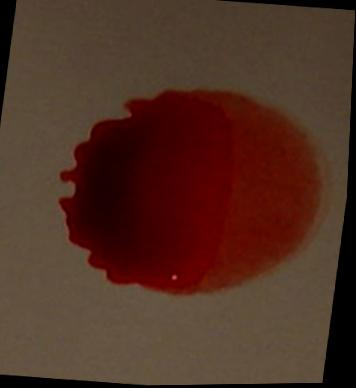Fire: (59, 88, 326, 294)
